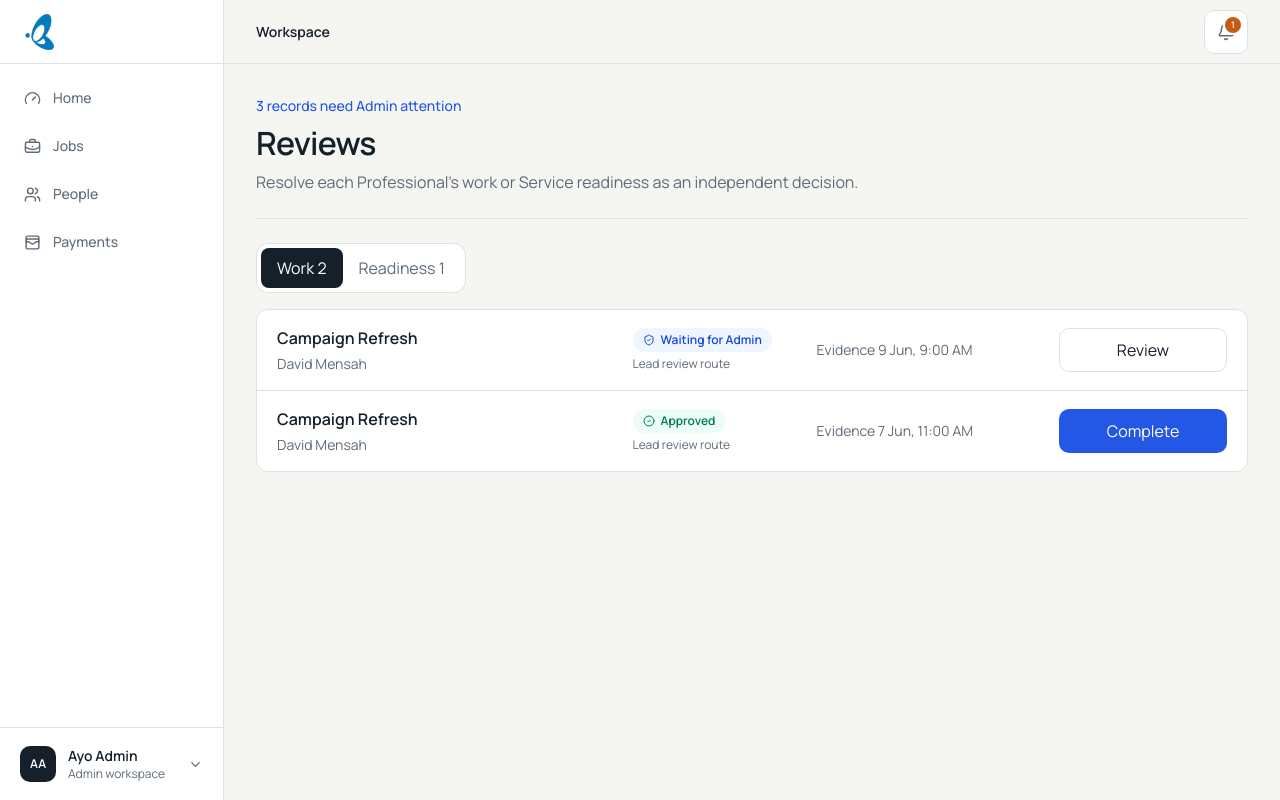
Test: application routing › switches between independent Work and readiness review queues
Check: the tab "Work 2" is shown, box [261, 248, 342, 288]
Click the tab "Readiness 1".
click(402, 268)  # box [342, 248, 461, 288]
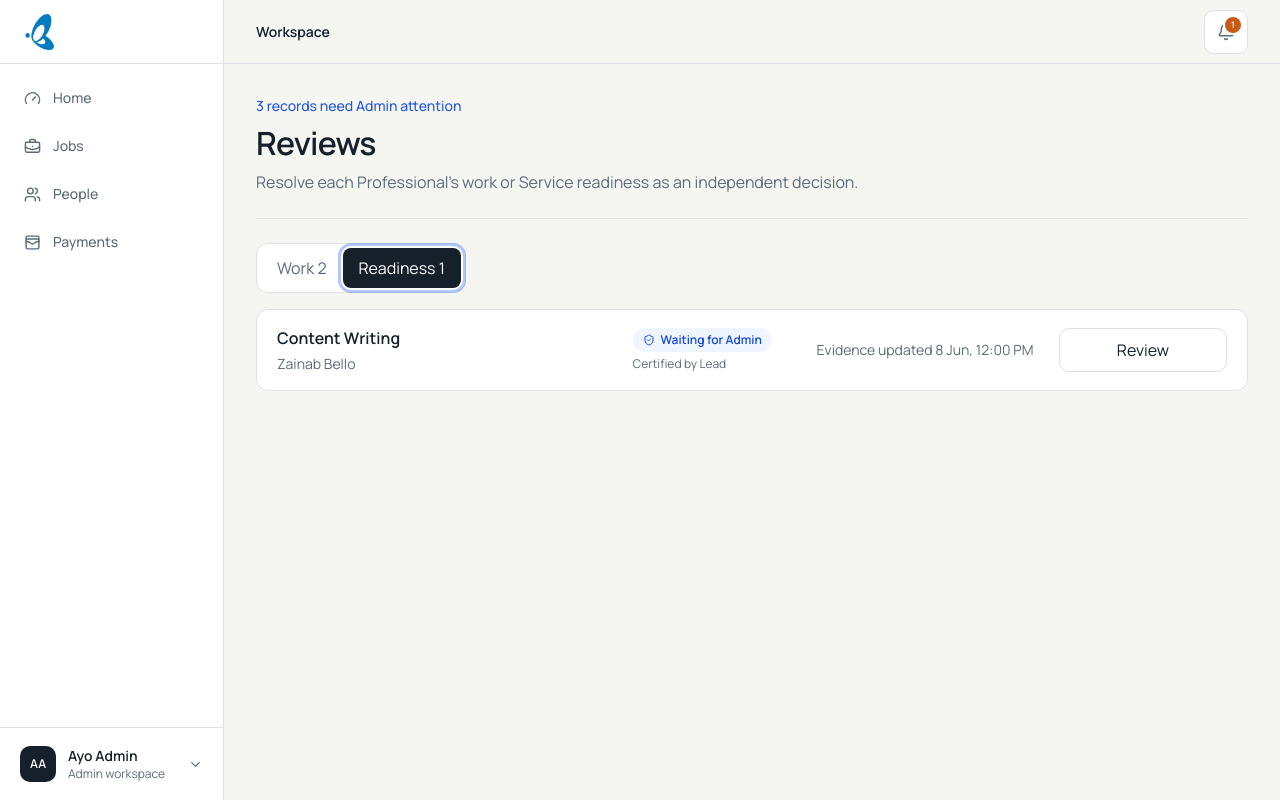
Check: the text "Zainab Bello" is shown, box [277, 354, 355, 373]
Check: the text "Content Writing" is shown, box [277, 327, 400, 349]
